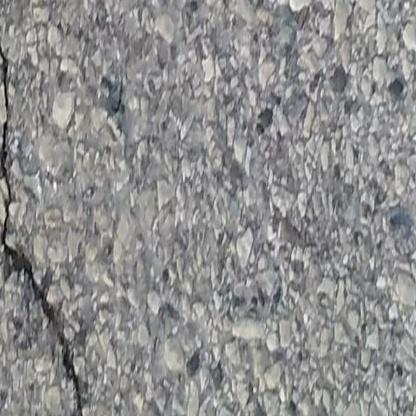Cracks: (0, 0, 76, 416)
